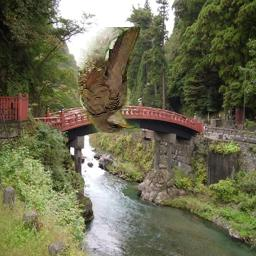Cuckoo: (78, 27, 140, 133)
